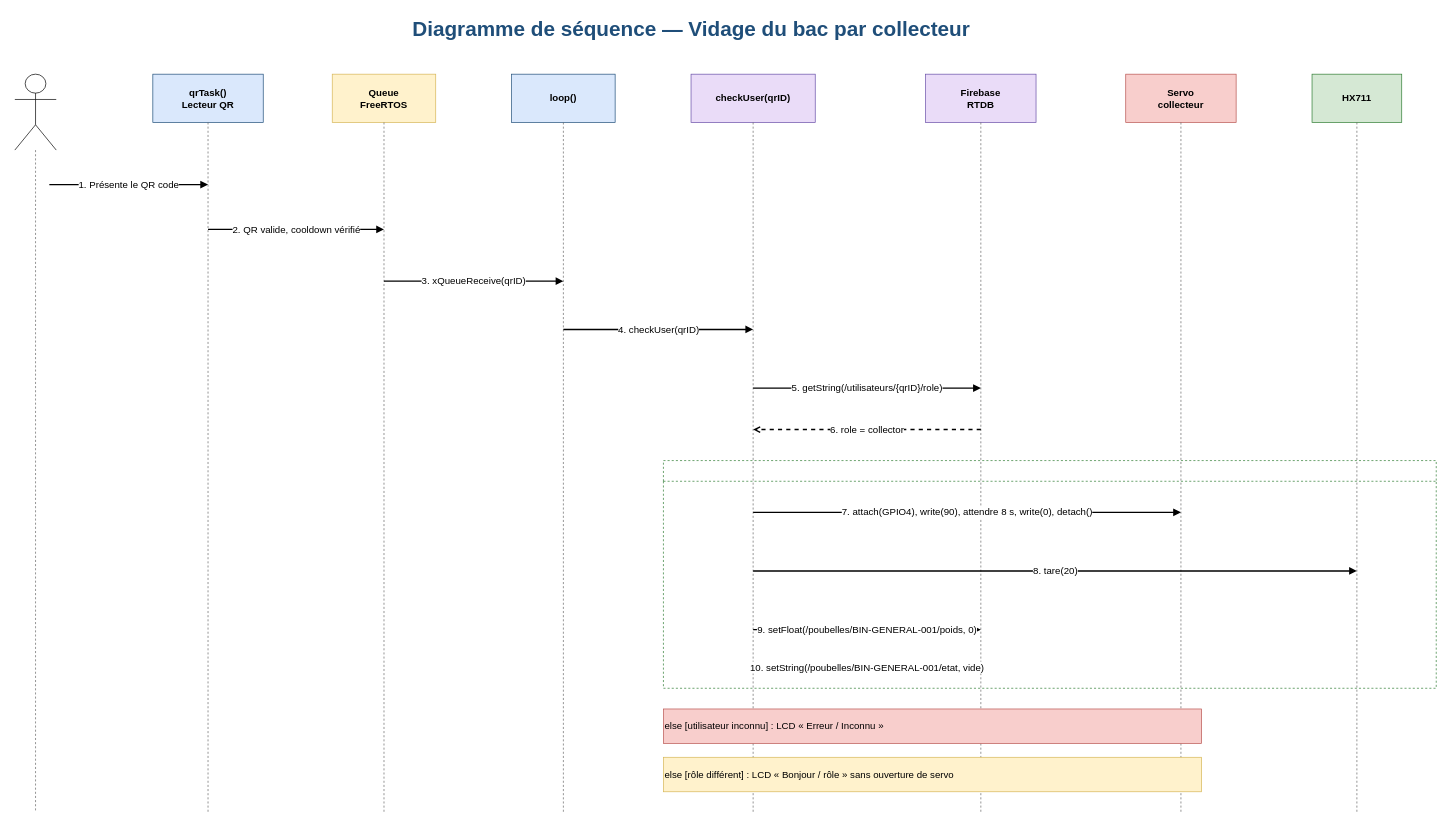
Some shapes in this 1448 by 825 pixel diagram are drawn without their labels. Each missing label, with the centre of its shape:
alt [utilisateur connu et rôle = collector]: the point at 1049,574
Collecteur: the point at 35,111
